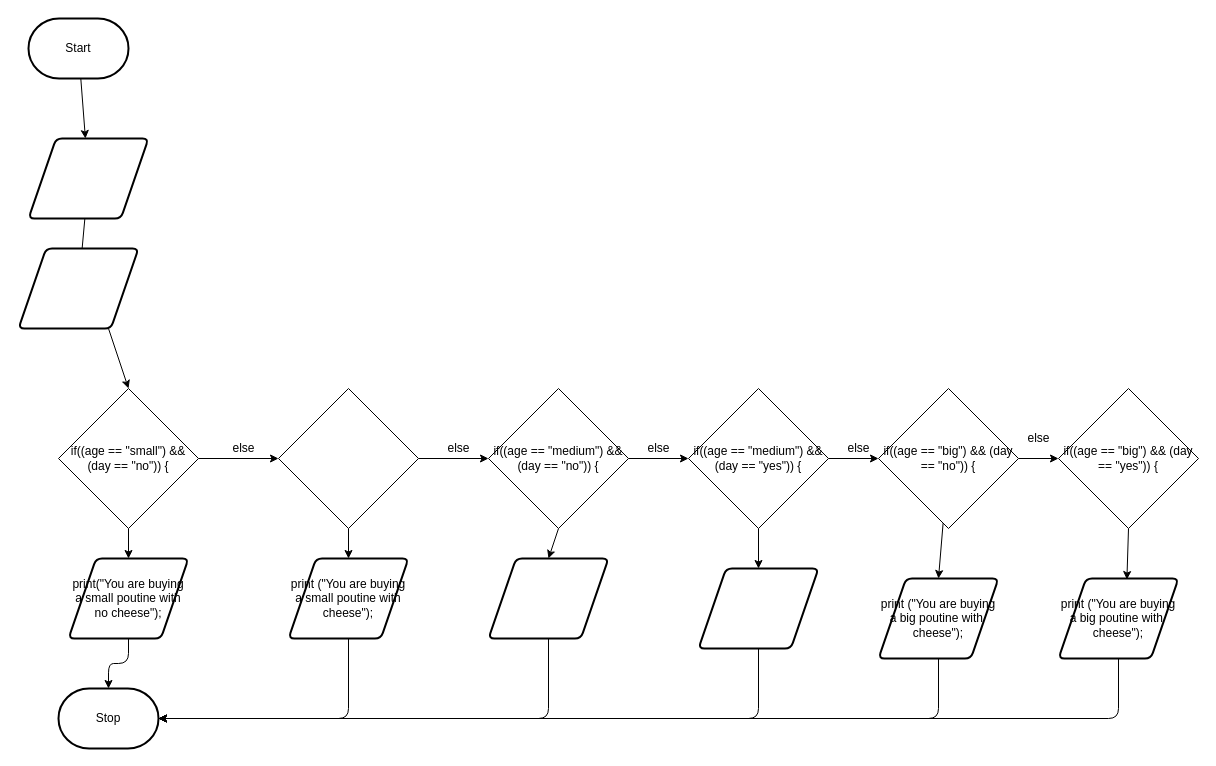
The diagram is 1216 pixels wide and 766 high, and some of its shapes have lost their labels. The shapes that lost their labels are listed below. From the top down, each one's centre as x and y in pixels, then its label:
point (88, 178): Write down size of poutine: small, big or medium
point (78, 288): Write down if your going to have cheese or not
point (348, 458): if((age == "small") && (day == "yes")) {
point (548, 598): print("You are buying a medium poutine with no cheese.");
point (758, 608): print("You are buying a medium poutine with cheese.");
